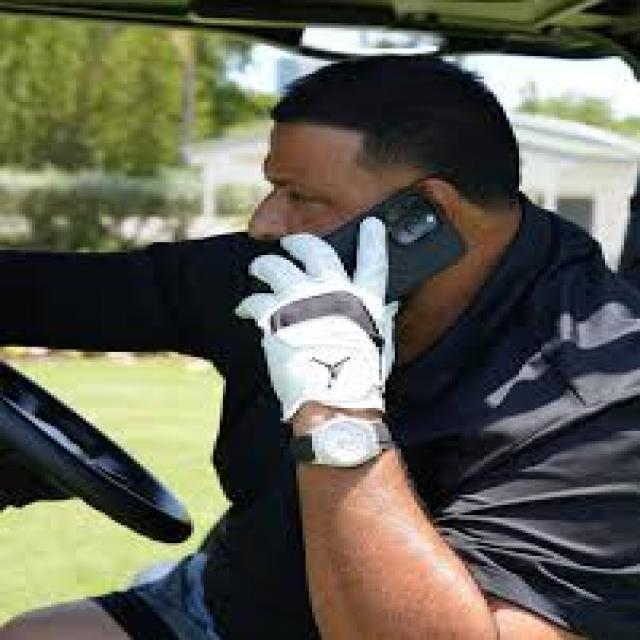Watch: (278, 410, 399, 480)
